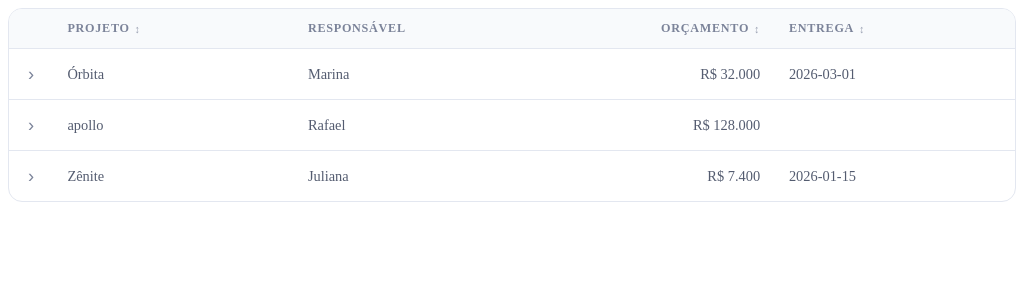
Scenario: BdTableComponent › linhas expansíveis › fecha ao clicar novamente
Step 1. Click the button with class "bd-table__expand" next to "Órbita" → click(31, 74), box [19,61,43,87]
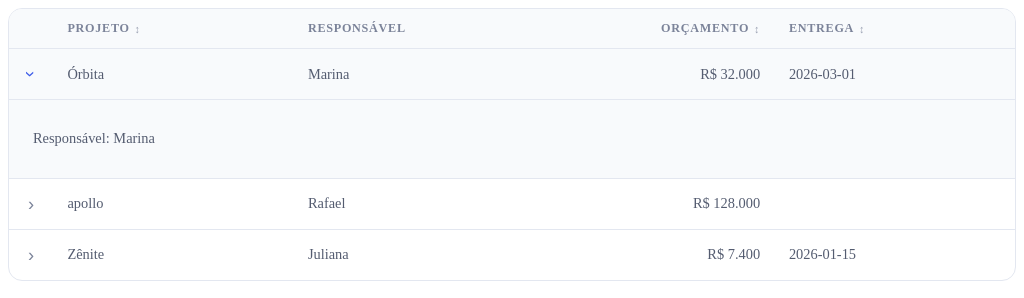
Step 2. Click the button with class "bd-table__expand" next to "Órbita" → click(31, 74), box [18,62,44,86]
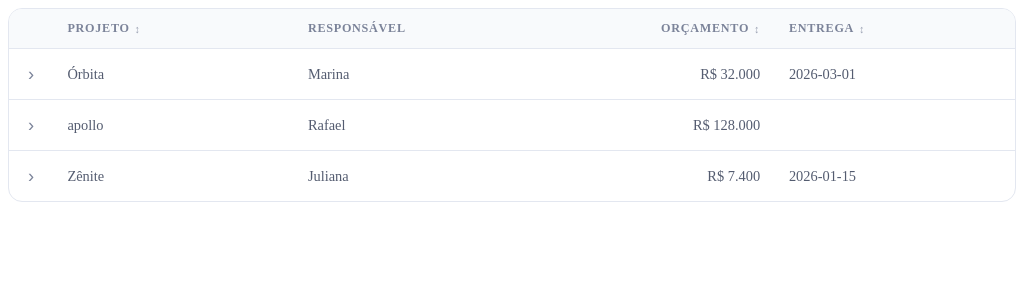
Expected: no rows with class "bd-table__detail" are shown
